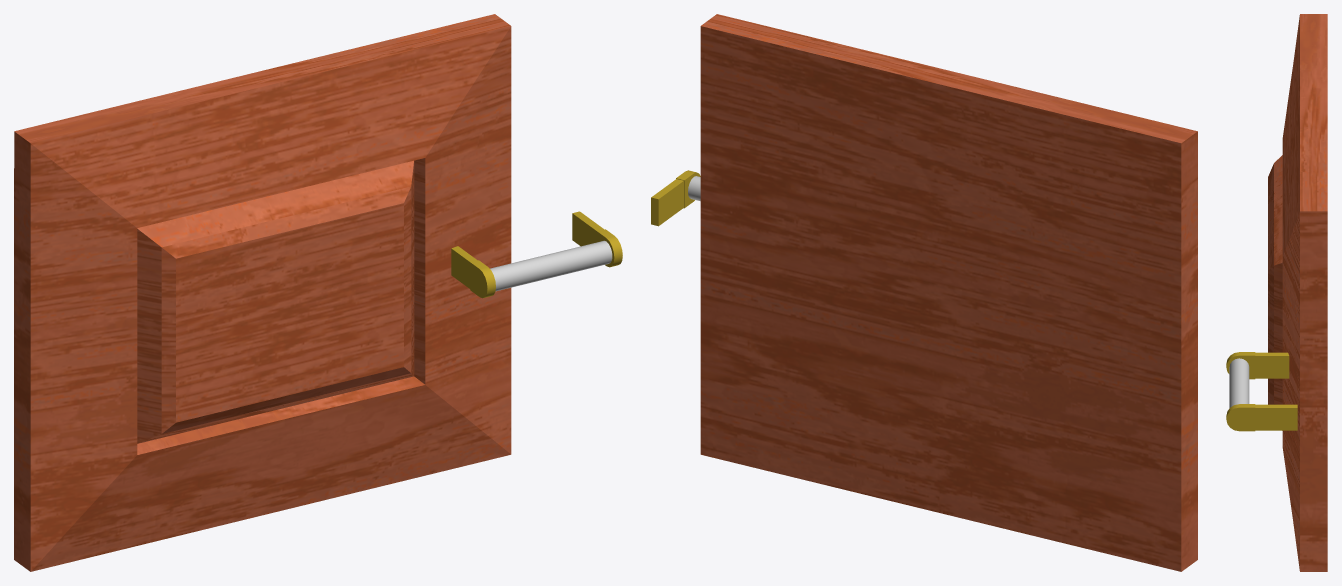
Rendered from Cabinet_9b7452a7.obj.
3 renders of one model, left to right at view 1: azimuth 30°, elevation 25°; view 2: azimuth 150°, elevation 25°; view 3: azimuth 270°, elevation 25°, orthographic. The views are drawn at different scales.
Parts seen in each view (by area): view 1: Mesh_01_88bfe3ea, handle_2_76mm_01_c1f176e3; view 2: Mesh_01_88bfe3ea, handle_2_76mm_01_c1f176e3; view 3: Mesh_01_88bfe3ea, handle_2_76mm_01_c1f176e3.
Boxes of the visible parts, x1,y1,x2,y2 form: Mesh_01_88bfe3ea: (14, 14, 511, 571); handle_2_76mm_01_c1f176e3: (451, 211, 622, 298); Mesh_01_88bfe3ea: (700, 14, 1197, 571); handle_2_76mm_01_c1f176e3: (651, 170, 700, 226); Mesh_01_88bfe3ea: (1268, 14, 1327, 571); handle_2_76mm_01_c1f176e3: (1226, 352, 1297, 431).
Bounding box in the file's own units: 0.308 × 0.23 × 0.0585.
